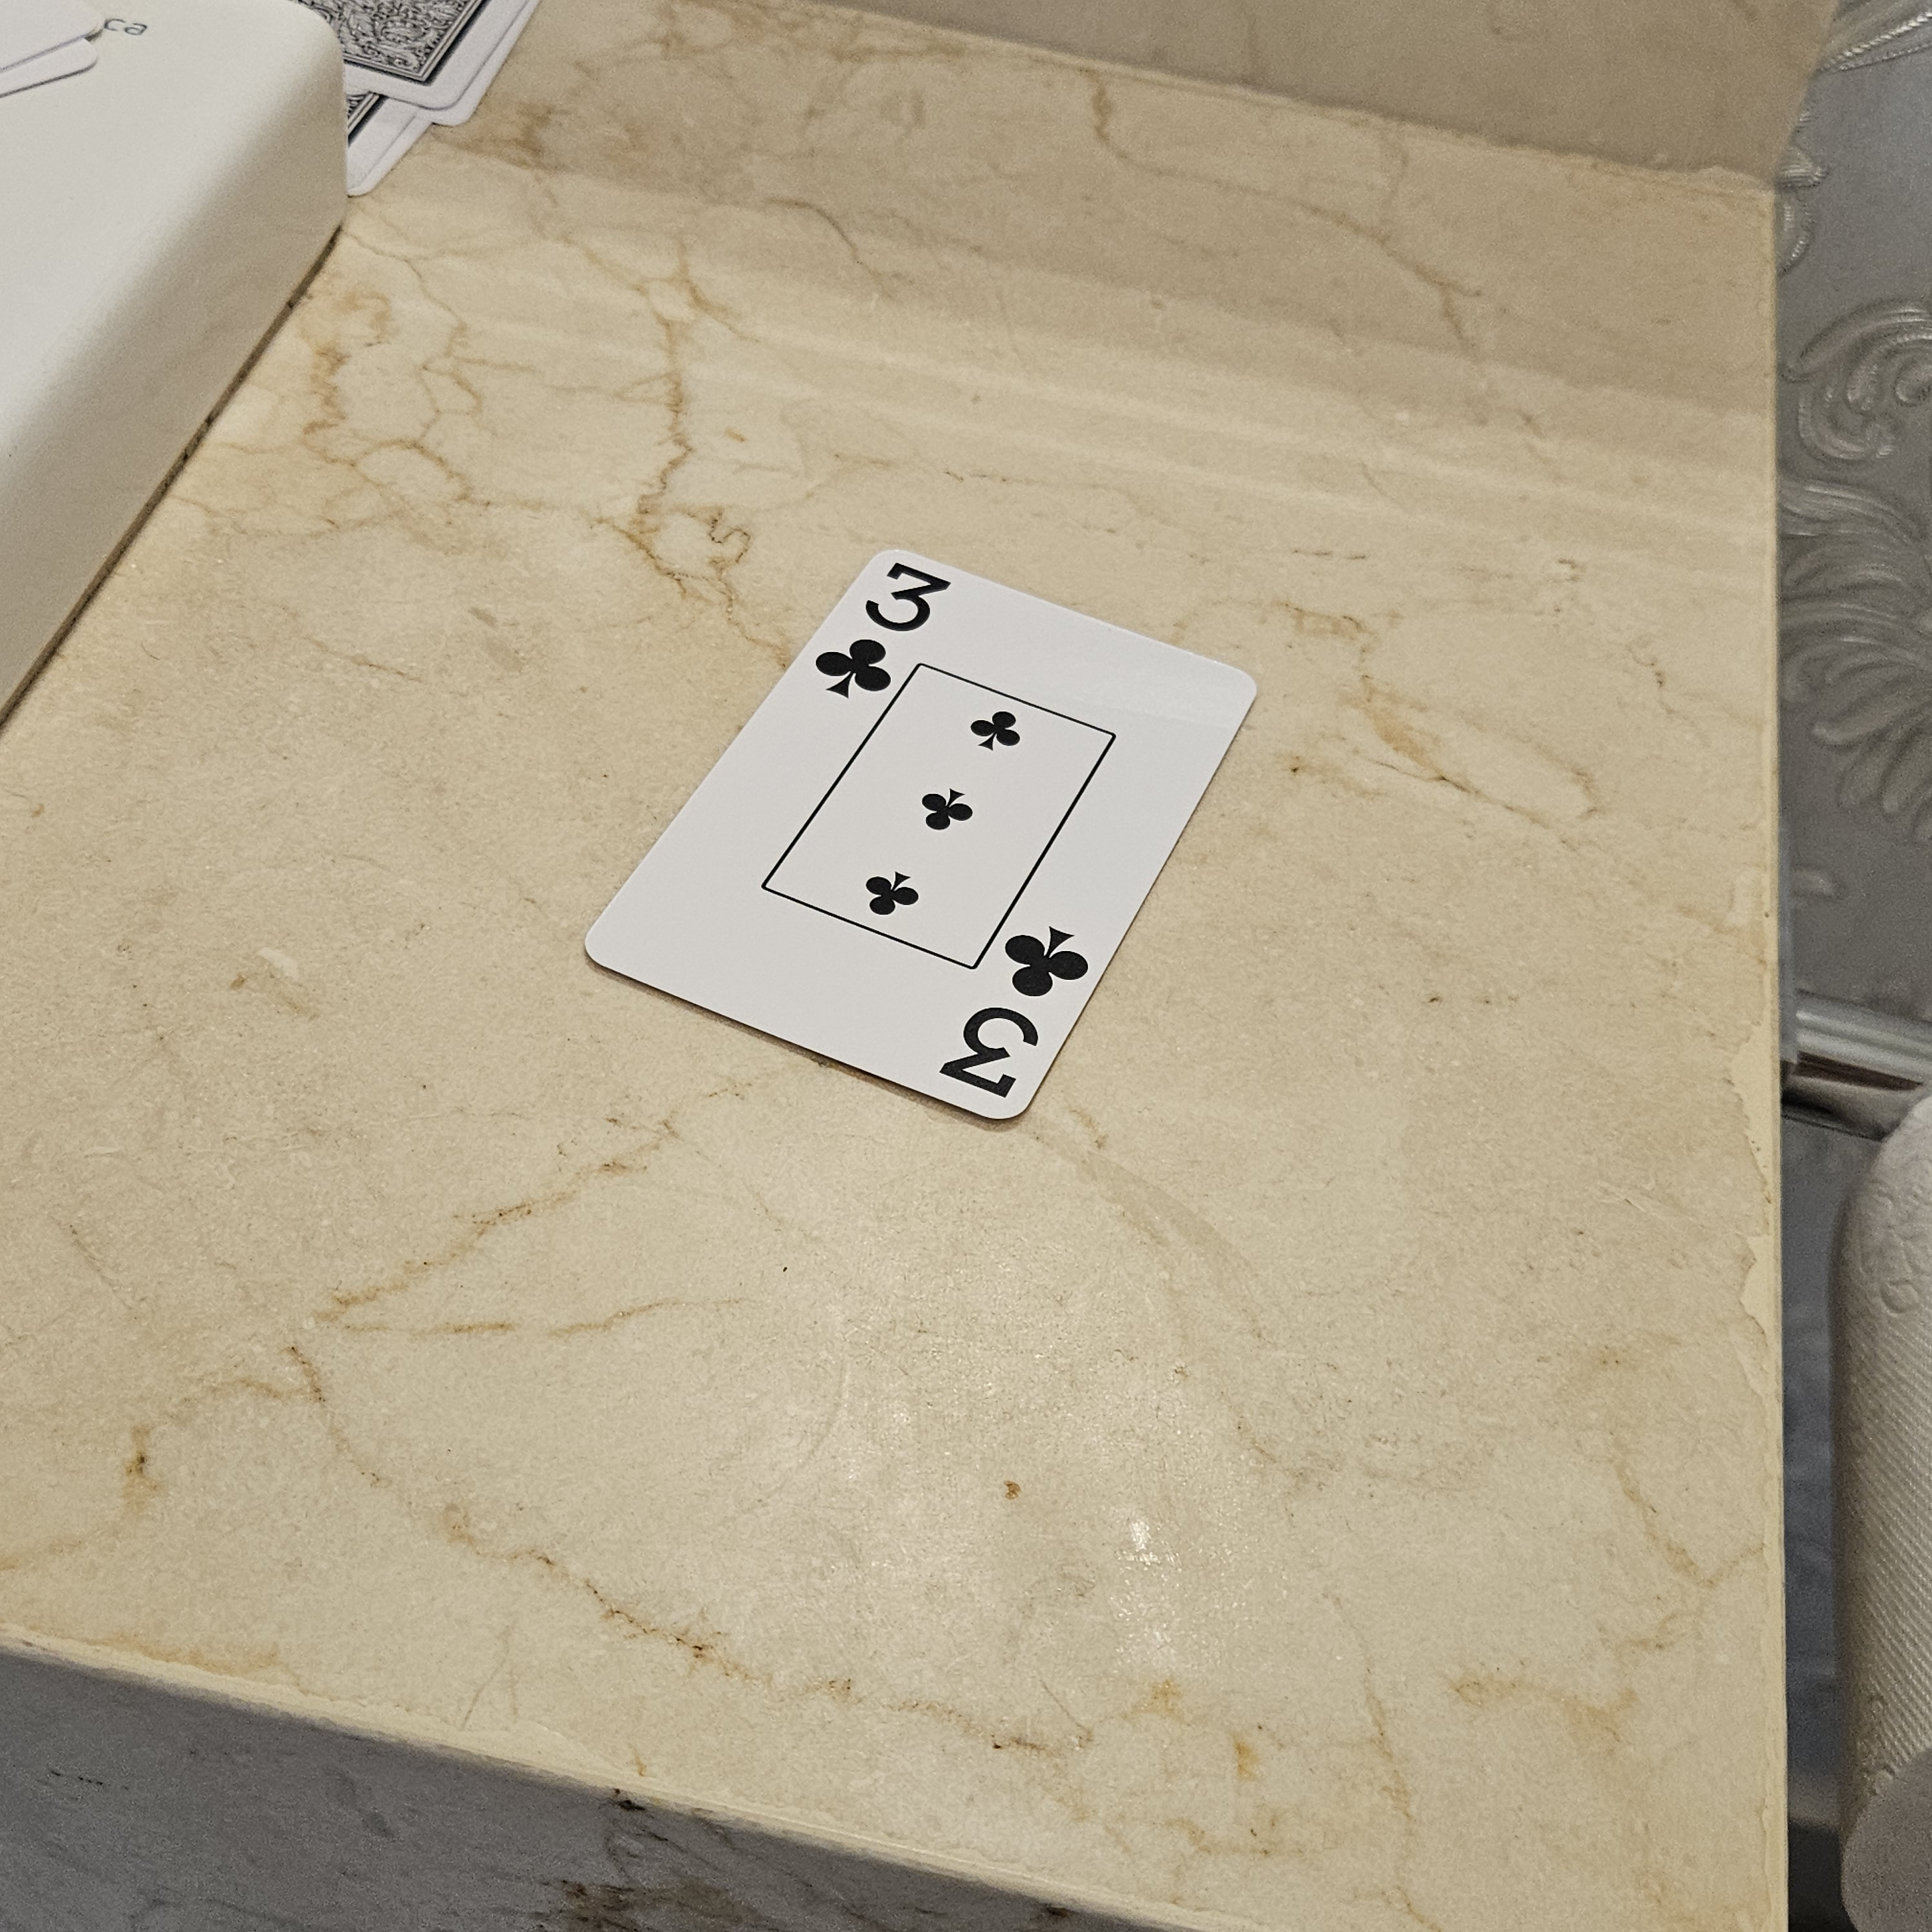3P: (929, 911, 1095, 1115), (803, 541, 966, 709)
